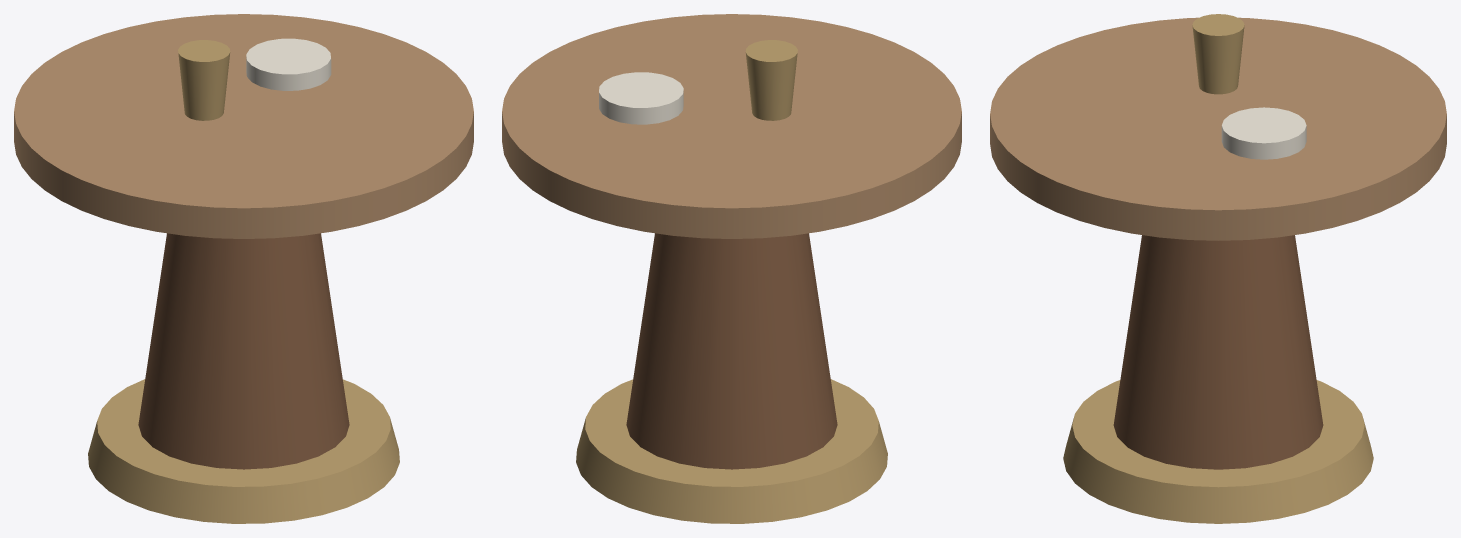
Rendered from table-4-3.glb.
3 views of the same model, side by side, from view 1: azimuth 30°, elevation 25°; view 2: azimuth 150°, elevation 25°; view 3: azimuth 270°, elevation 25° (orthographic).
Visible parts, largest first — view 1: part (×4); view 2: part (×4); view 3: part (×4).
Boxes of the visible parts, x1,y1,x2,y2 form: part (×4): (14,14,473,523); part (×4): (502,14,961,523); part (×4): (990,14,1446,523).
Size of the model in its own units: 1 by 1 by 1.
